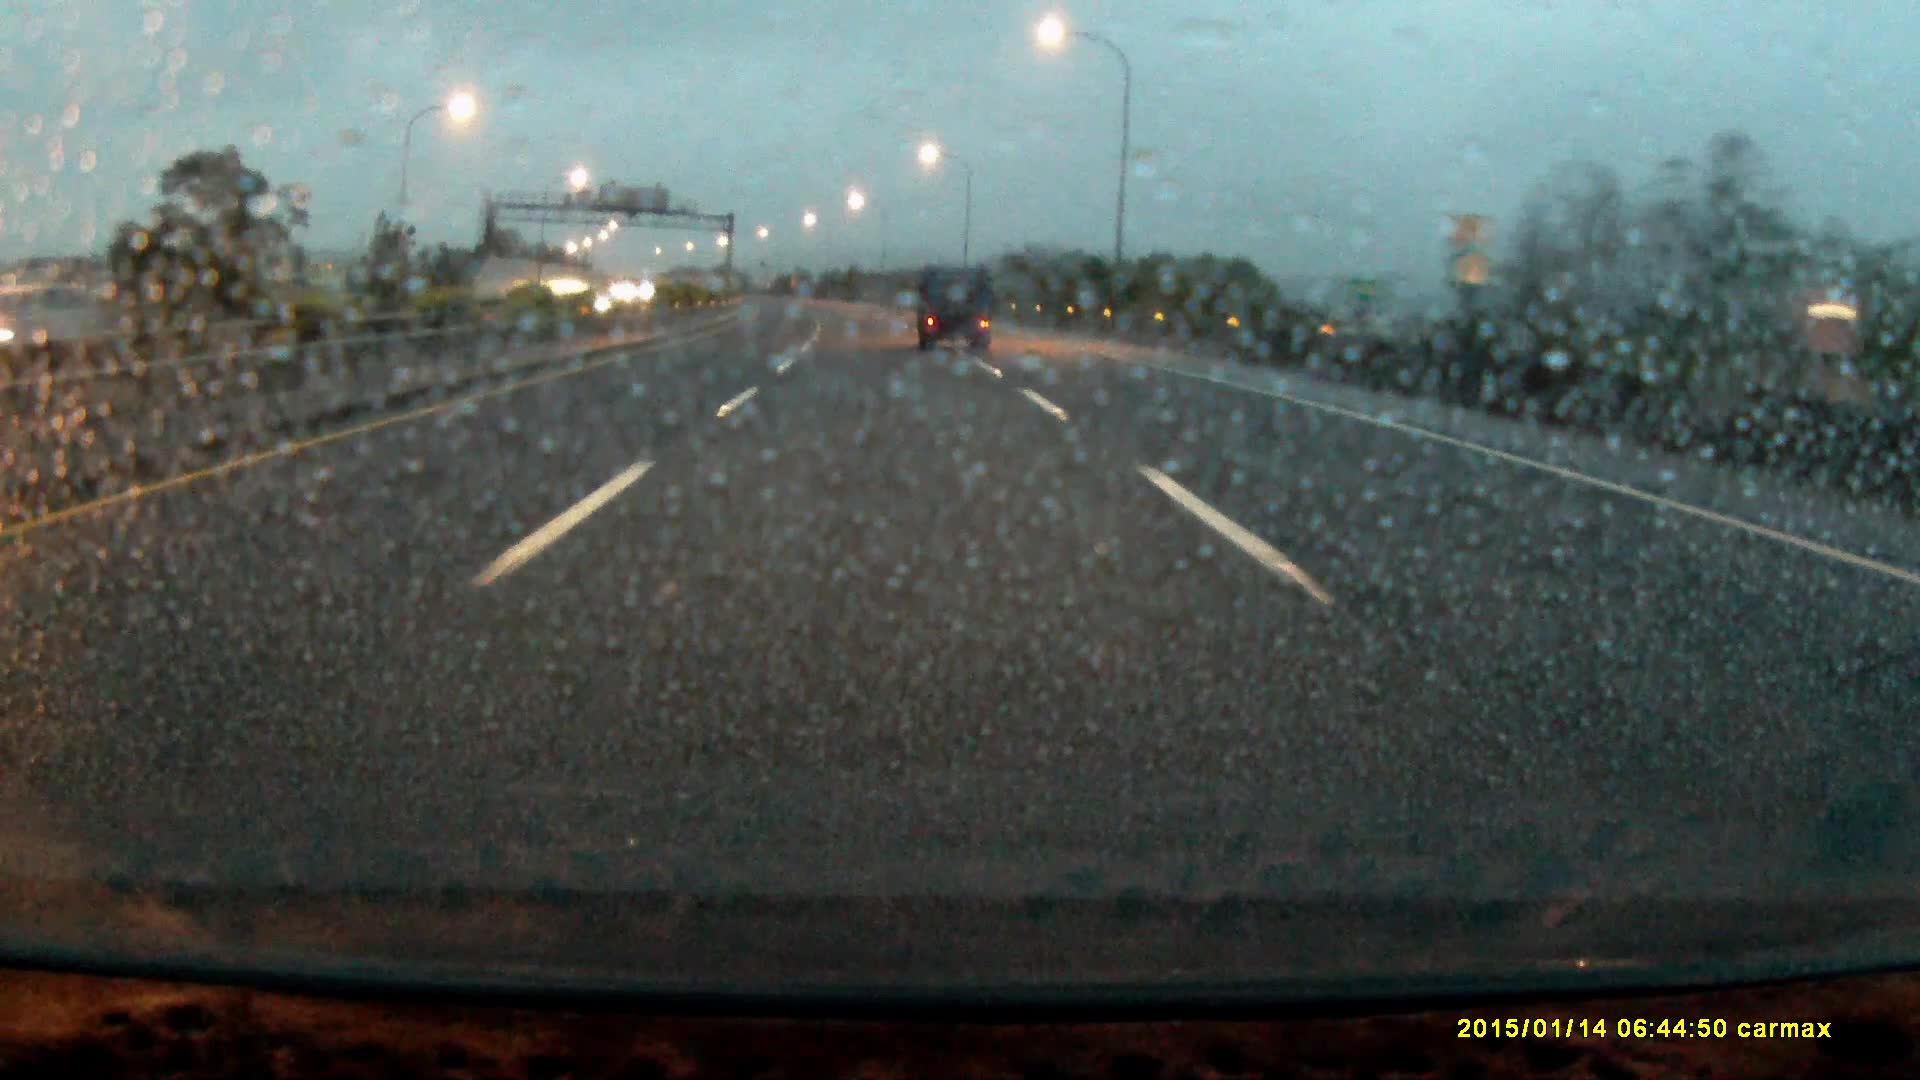vehicle: (916, 272, 996, 356)
